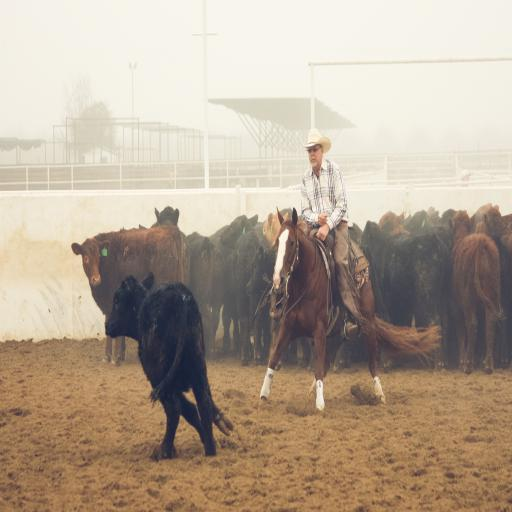horse: (258, 201, 442, 415)
